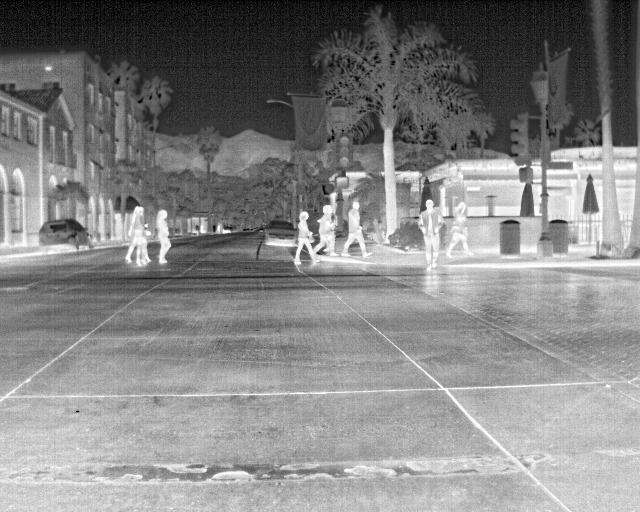bicycle: (34, 219, 94, 255), (262, 219, 300, 247)
empty: (414, 198, 448, 270), (340, 197, 373, 258), (289, 209, 318, 267), (445, 203, 471, 255), (123, 206, 145, 266), (153, 207, 173, 266), (314, 206, 335, 257)
